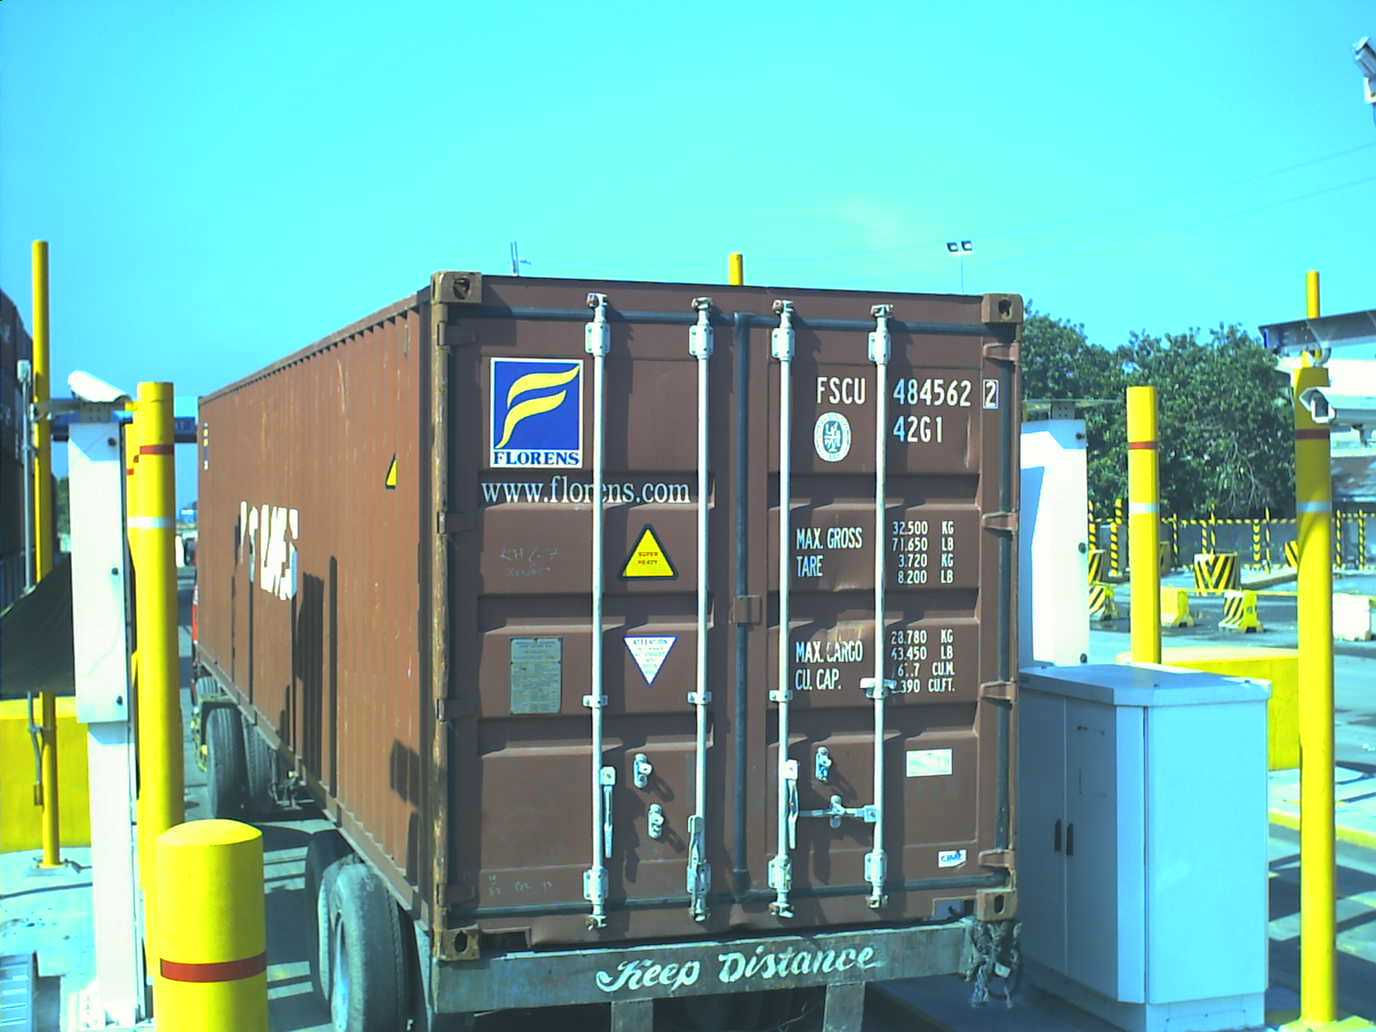container_door: (423, 289, 1024, 971)
